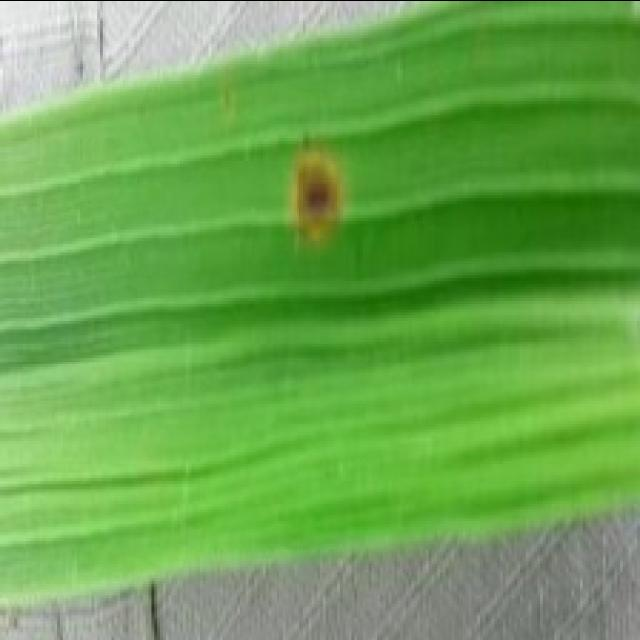Unhealthy: (277, 141, 352, 245)
